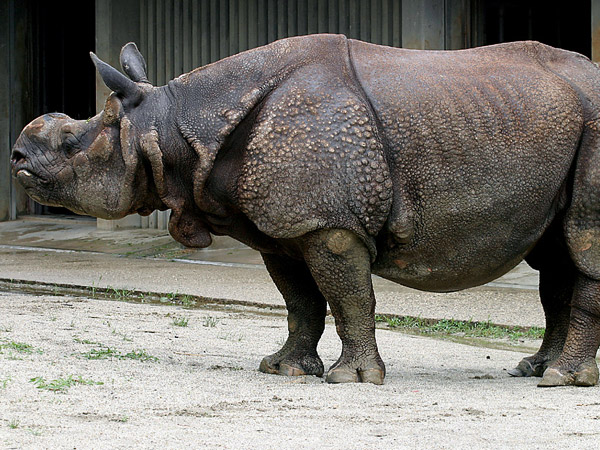rhinoceros: (9, 35, 600, 388)
